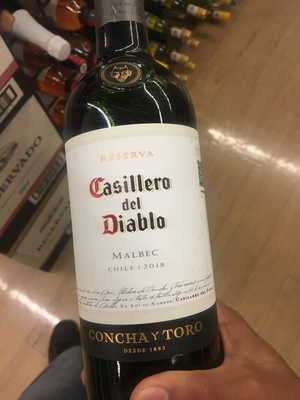casillero del diablo malbec: (62, 20, 223, 400)
